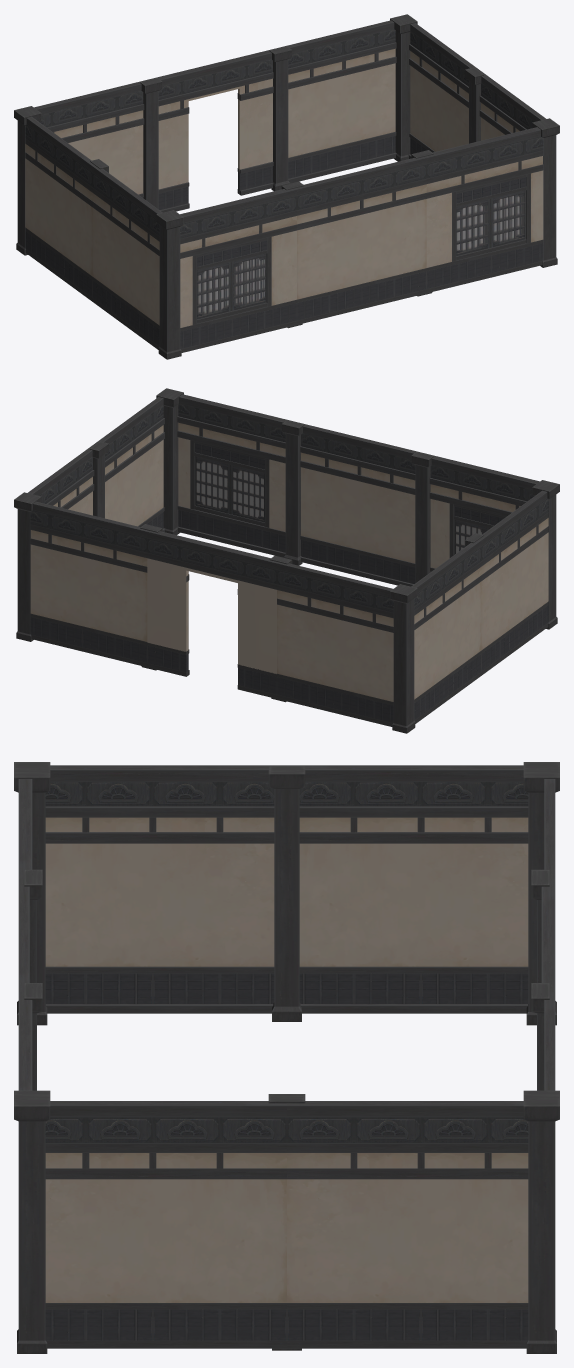
The model's file is Homeworld_Interior_Dq_Room_B_Wall_01_Vo.fbx.
3 renders of one model, top to bottom at view 1: azimuth 30°, elevation 25°; view 2: azimuth 150°, elevation 25°; view 3: azimuth 270°, elevation 25°, orthographic. The views are drawn at different scales.
Parts seen in each view (by area): view 1: Homeworld_Interior_Dq_Room_Wall_01_Vo (×7), Homeworld_Interior_Dq_Room_Wall_02_Vo (×2), Homeworld_Interior_Dq_Room_Wall_06_Vo, Homeworld_Interior_Dq_Room_Pillar_01_Vo (×4), Homeworld_Interior_Dq_Room_Pillar_02_Vo (×3), Homeworld_Interior_Dq_Room_B_Filling_01_Vo; view 2: Homeworld_Interior_Dq_Room_Wall_01_Vo (×7), Homeworld_Interior_Dq_Room_Wall_02_Vo (×2), Homeworld_Interior_Dq_Room_Wall_06_Vo, Homeworld_Interior_Dq_Room_Pillar_01_Vo (×4), Homeworld_Interior_Dq_Room_Pillar_02_Vo (×3); view 3: Homeworld_Interior_Dq_Room_Wall_01_Vo (×7), Homeworld_Interior_Dq_Room_Pillar_01_Vo (×4), Homeworld_Interior_Dq_Room_Pillar_02_Vo (×5), Homeworld_Interior_Dq_Room_Wall_02_Vo (×2), Homeworld_Interior_Dq_Room_Wall_06_Vo.
Boxes of the visible parts, x1,y1,x2,y2 form: Homeworld_Interior_Dq_Room_Wall_01_Vo (×7): (25,20,545,349); Homeworld_Interior_Dq_Room_Wall_02_Vo (×2): (180,127,543,352); Homeworld_Interior_Dq_Room_Wall_06_Vo: (147,48,277,212); Homeworld_Interior_Dq_Room_Pillar_01_Vo (×4): (14,14,559,359); Homeworld_Interior_Dq_Room_Pillar_02_Vo (×3): (140,46,483,209); Homeworld_Interior_Dq_Room_B_Filling_01_Vo: (197,89,524,314); Homeworld_Interior_Dq_Room_Wall_01_Vo (×7): (28,397,548,726); Homeworld_Interior_Dq_Room_Wall_02_Vo (×2): (177,394,539,571); Homeworld_Interior_Dq_Room_Wall_06_Vo: (147,530,277,698); Homeworld_Interior_Dq_Room_Pillar_01_Vo (×4): (14,388,559,733); Homeworld_Interior_Dq_Room_Pillar_02_Vo (×3): (90,420,433,583); Homeworld_Interior_Dq_Room_Wall_01_Vo (×7): (18,765,555,1348); Homeworld_Interior_Dq_Room_Pillar_01_Vo (×4): (14,762,559,1353); Homeworld_Interior_Dq_Room_Pillar_02_Vo (×5): (24,766,549,1090); Homeworld_Interior_Dq_Room_Wall_02_Vo (×2): (18,779,32,1090); Homeworld_Interior_Dq_Room_Wall_06_Vo: (541,878,555,991).
Size of what is drawn, in the model's own units: 15.18 by 5.12 by 10.18.
